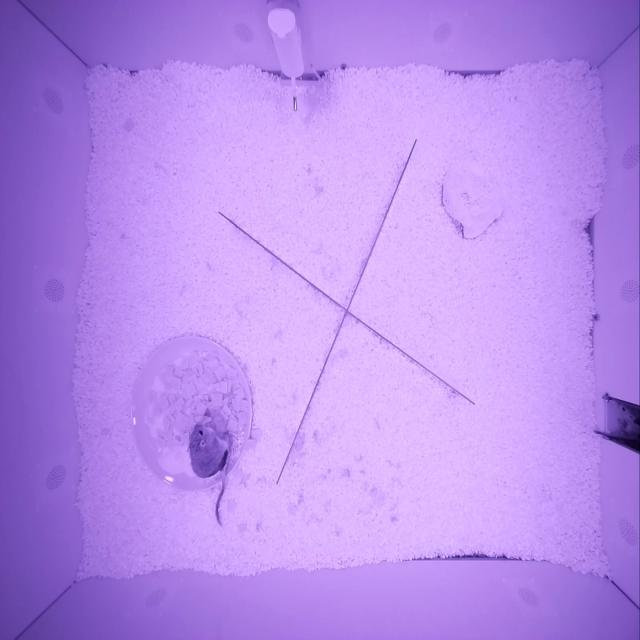adult_back: (187, 422, 230, 479)
